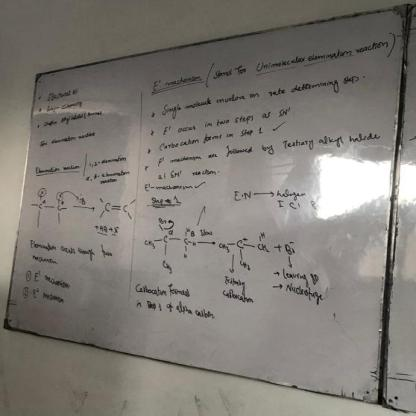Handwritten text: (156, 65, 365, 123), (165, 122, 384, 167), (208, 33, 393, 83), (174, 103, 298, 137), (23, 235, 124, 267), (154, 124, 257, 153), (33, 125, 106, 152), (127, 279, 194, 300), (38, 93, 94, 117), (42, 81, 87, 103)
